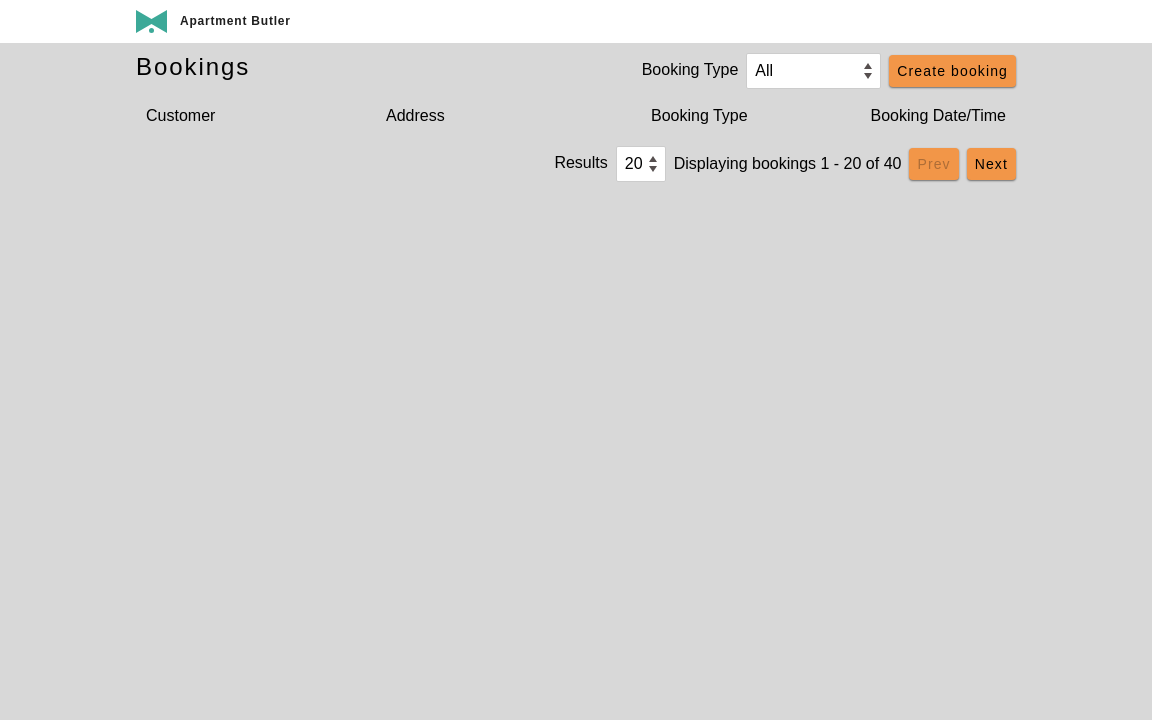
renders create booking modal
Step 1. Click the button with test id "create-booking-button" → (953, 71), box [889,55,1016,87]
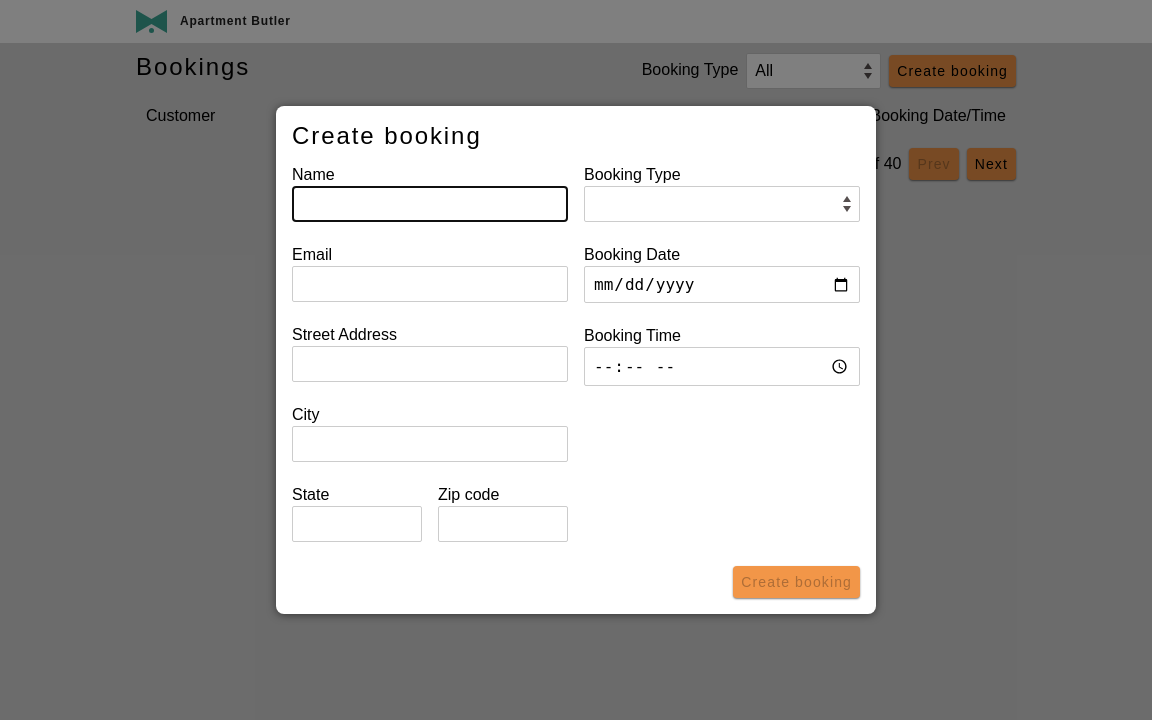
Check: the form with test id "create-booking-form" is shown, box [276,106,876,614]
